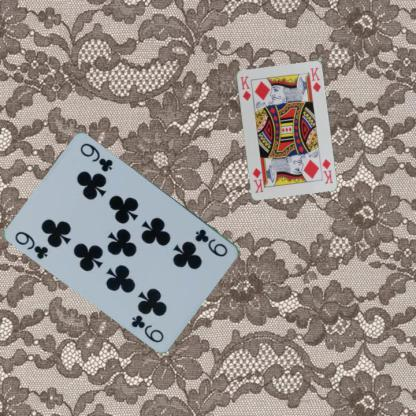9c: (12, 228, 50, 261), (192, 226, 230, 258)
Kd: (237, 73, 252, 102), (319, 156, 334, 185)
